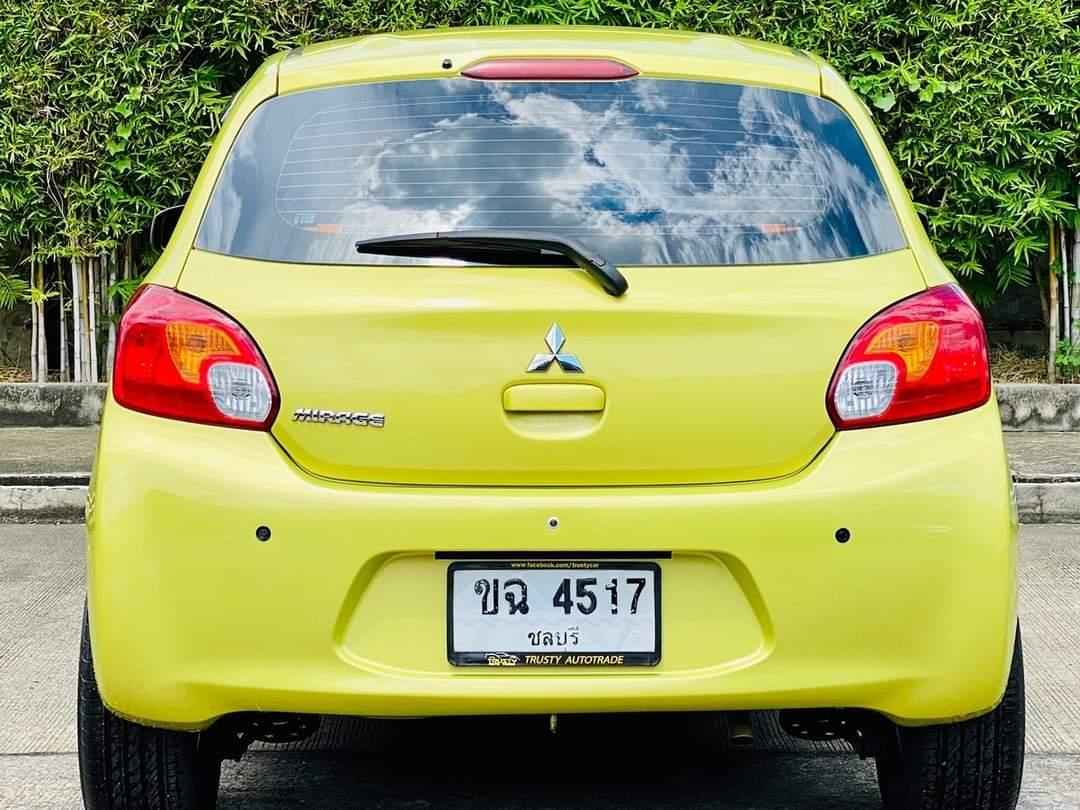license-plate: (447, 559, 663, 671)
